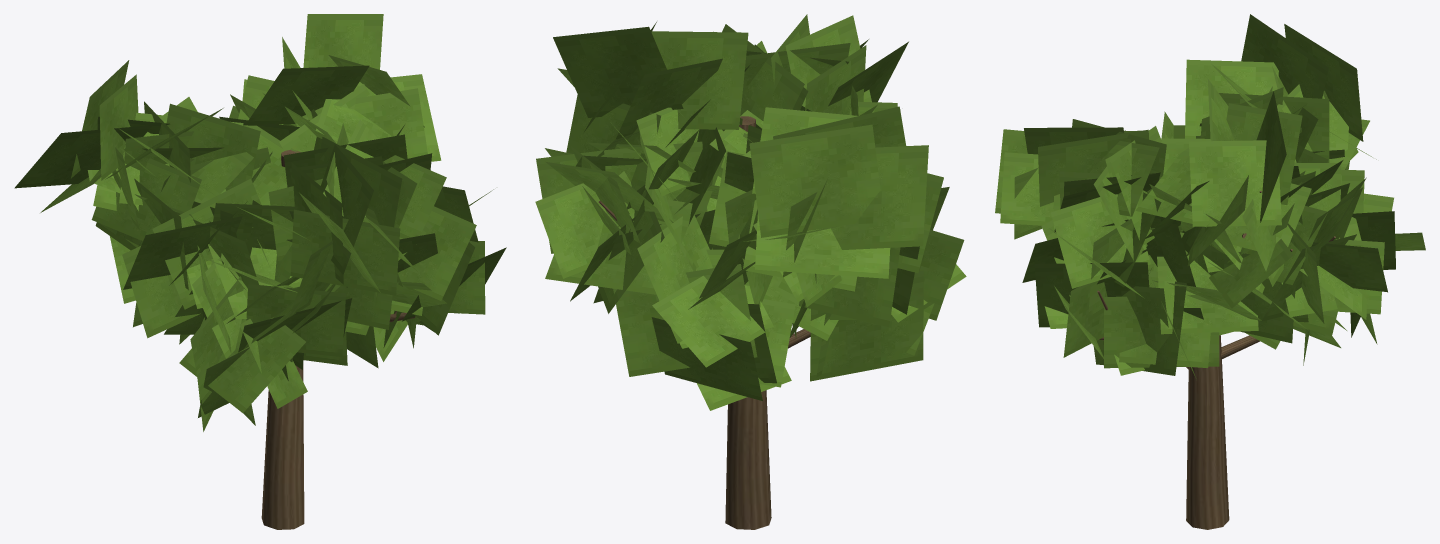
3 views of the same model, side by side, from view 1: azimuth 30°, elevation 25°; view 2: azimuth 150°, elevation 25°; view 3: azimuth 270°, elevation 25° (orthographic). The views are drawn at different scales.
Parts seen in each view (by area): view 1: oak-leaf, oak-bark; view 2: oak-leaf, oak-bark; view 3: oak-leaf, oak-bark.
Boxes of the visible parts, box(x1,y1,x2,y2) form: oak-leaf: box(14, 14, 506, 431); oak-bark: box(261, 150, 417, 529); oak-leaf: box(535, 14, 966, 410); oak-bark: box(598, 116, 810, 529); oak-leaf: box(995, 14, 1425, 378); oak-bark: box(1097, 190, 1335, 529).
Bounding box in the file's own units: 8.33 × 9.82 × 8.38.
Materials: 2 (2 with a texture image).
